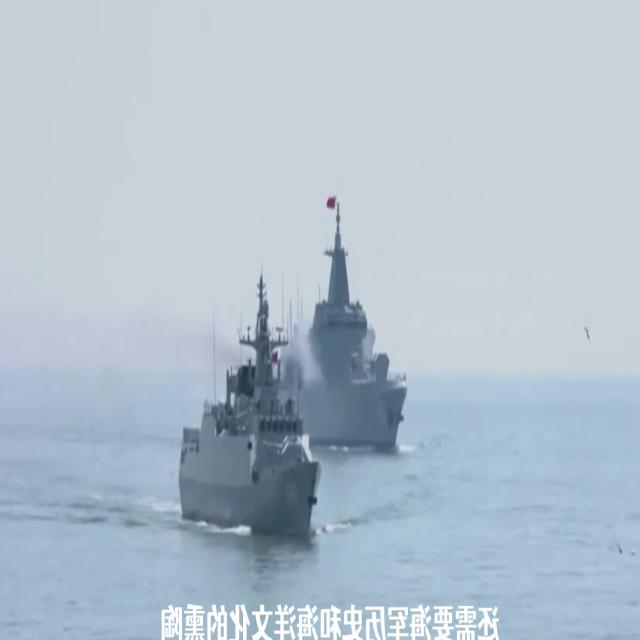navalvessels: (178, 271, 315, 538), (280, 189, 408, 442)
